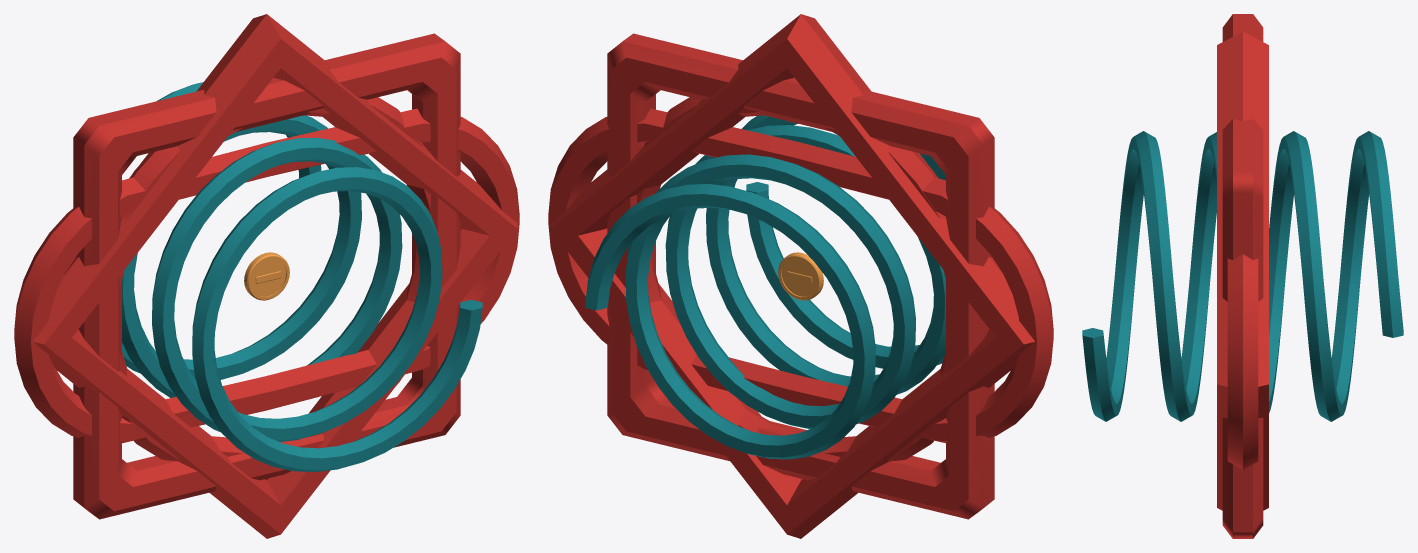
Rendered from SM_Obstacles.fbx.
3 views of the same model, side by side, from view 1: azimuth 30°, elevation 25°; view 2: azimuth 150°, elevation 25°; view 3: azimuth 270°, elevation 25° (orthographic). The views are drawn at different scales.
Visible parts, largest first — view 1: Obstacle_03, Obstacle_04, Obstacle_05, Obstacle_01, Obstacle_02, Coin; view 2: Obstacle_03, Obstacle_04, Obstacle_05, Obstacle_01, Obstacle_02, Coin; view 3: Obstacle_03, Obstacle_05, Obstacle_04, Obstacle_01.
Boxes of the visible parts, x1,y1,x2,y2 form: Obstacle_03: [122, 82, 482, 471]; Obstacle_04: [33, 14, 517, 538]; Obstacle_05: [73, 33, 460, 519]; Obstacle_01: [14, 108, 519, 443]; Obstacle_02: [119, 97, 430, 461]; Coin: [244, 252, 289, 300]; Obstacle_03: [585, 115, 945, 459]; Obstacle_04: [550, 14, 1034, 538]; Obstacle_05: [607, 33, 994, 519]; Obstacle_01: [548, 108, 1053, 443]; Obstacle_02: [637, 97, 948, 461]; Coin: [778, 252, 823, 300]; Obstacle_03: [1082, 131, 1403, 421]; Obstacle_05: [1222, 14, 1263, 538]; Obstacle_04: [1217, 31, 1268, 510]; Obstacle_01: [1227, 254, 1258, 469].
Size of the model in its own units: 2829 by 2808 by 1668.
